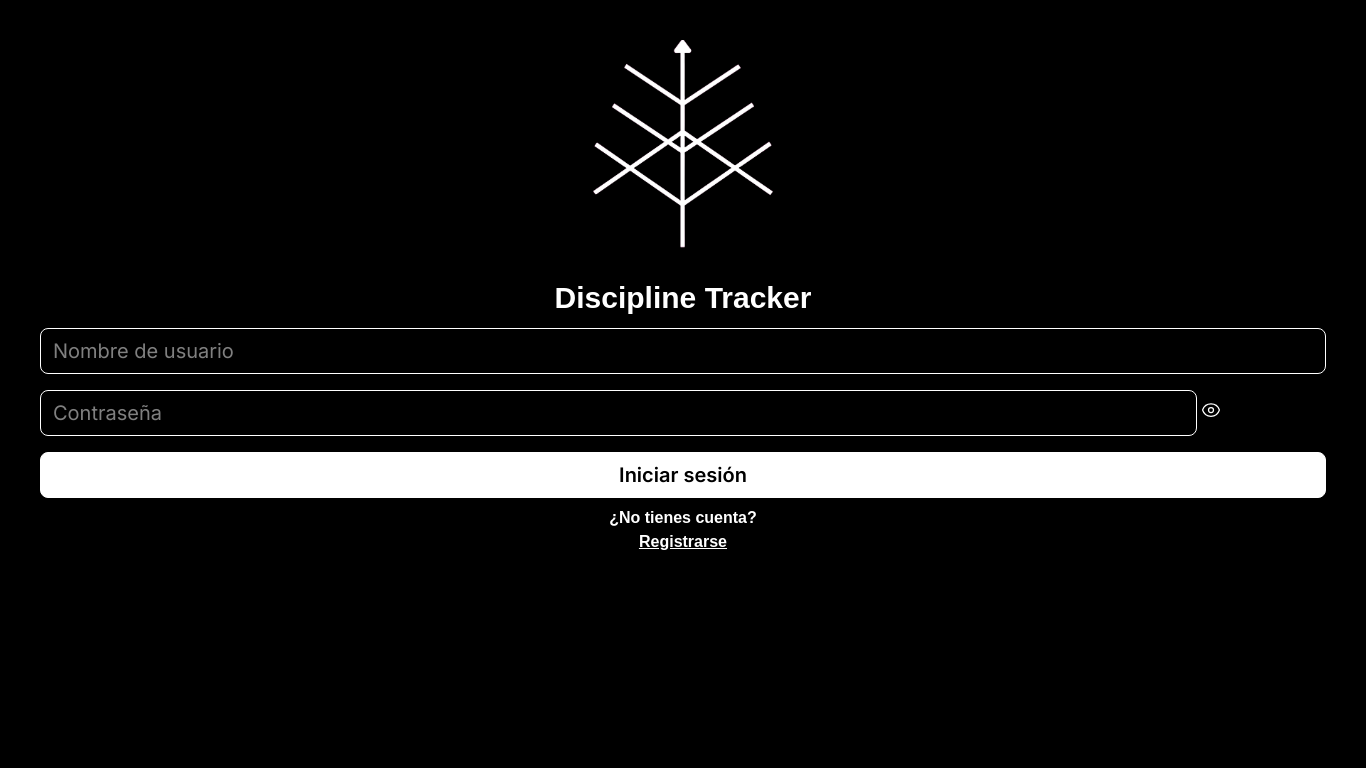
Test: Login › muestra errores de validación devueltos por el servidor
This screenshot has width=1366, height=768.
Click the button "Iniciar sesión": x=683, y=475 [40,452,1326,498]
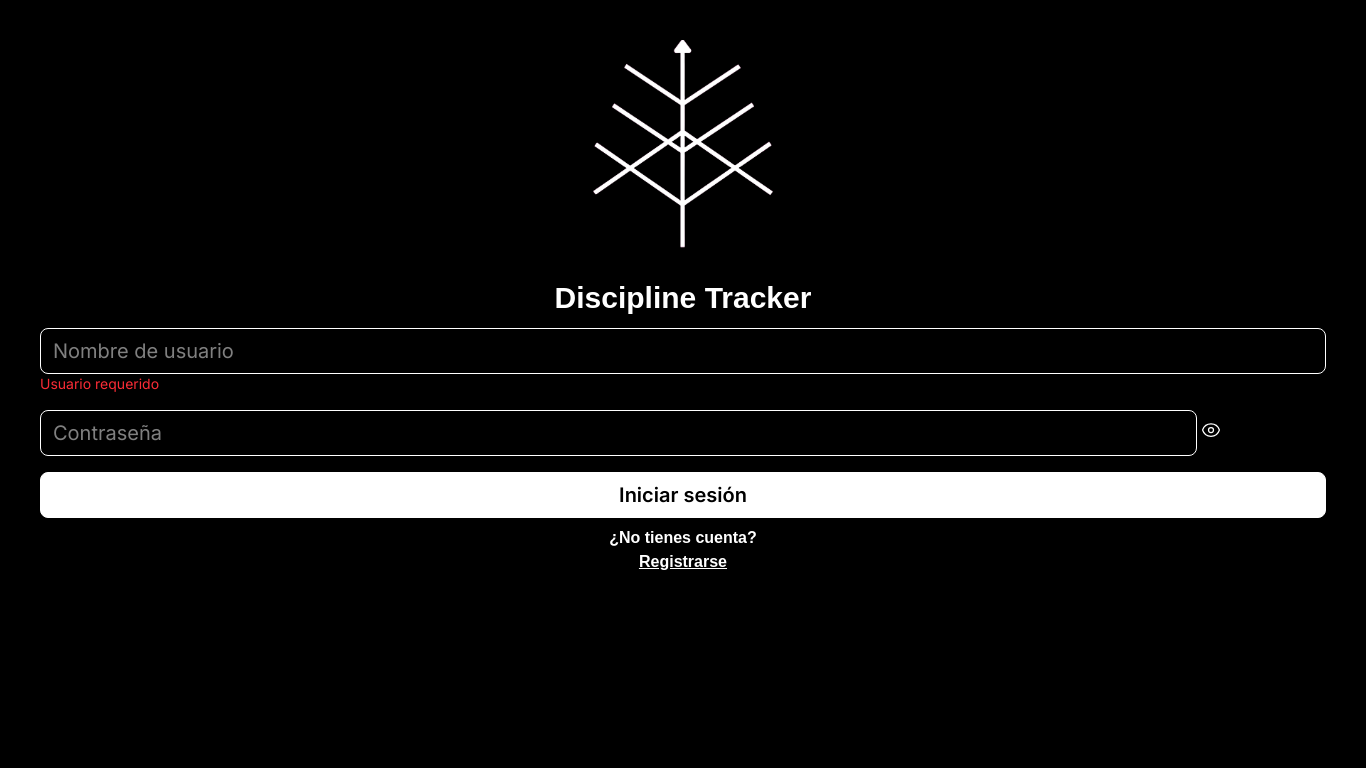
Expected: the text "Usuario requerido" is shown, [40,375,159,392]
